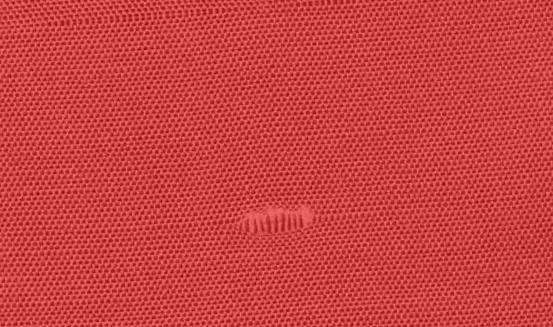slub: (228, 203, 321, 239)
